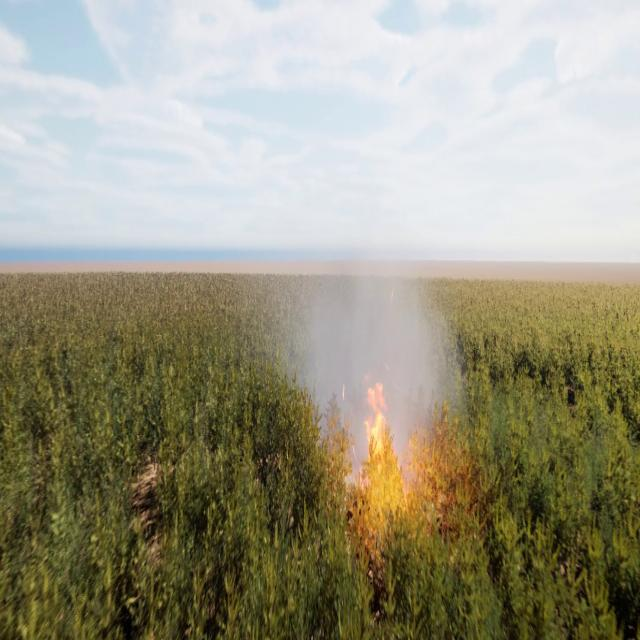fire: (358, 374, 415, 504)
smoke: (271, 198, 473, 506)
